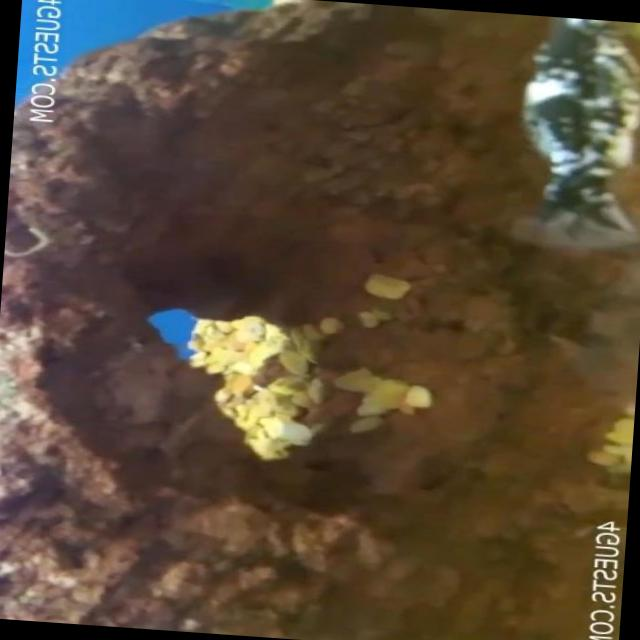PlatyFish: (478, 12, 640, 271)
